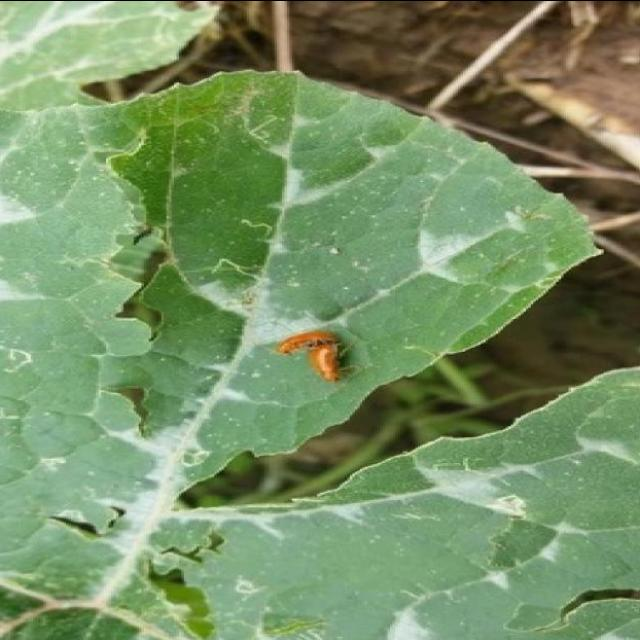Pumpkin Beetle: (96, 123, 192, 353), (157, 528, 239, 640), (492, 574, 640, 628), (78, 368, 168, 446), (265, 322, 353, 389), (37, 484, 132, 539), (156, 477, 216, 526)
